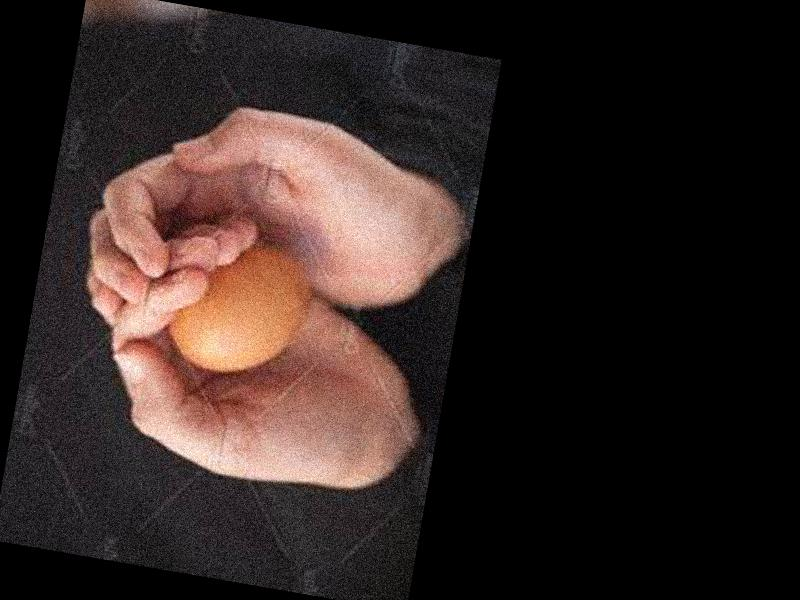Eggs: (166, 226, 319, 385)
